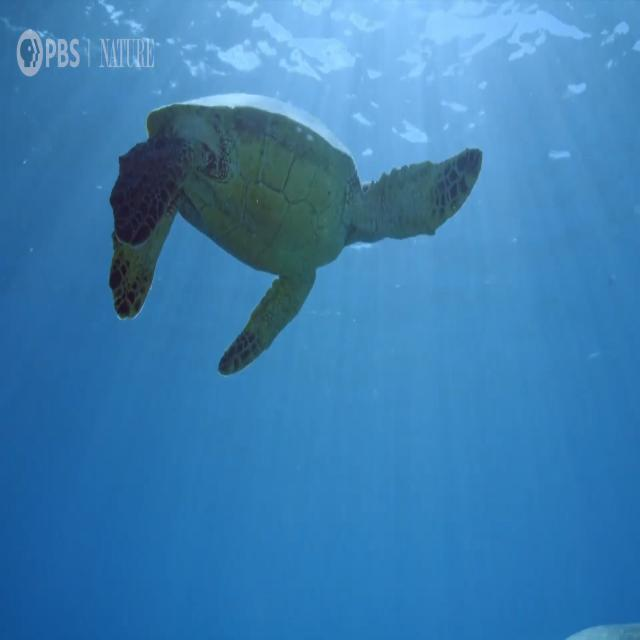Green-Sea-Turtle -Endangered-: (110, 93, 483, 376)
